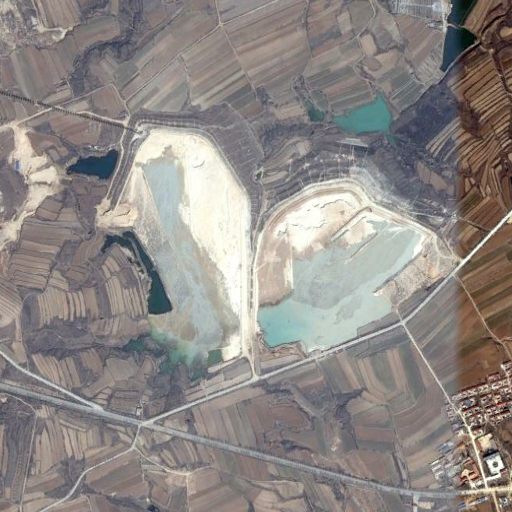tp: (252, 175, 445, 353), (107, 123, 247, 364)
